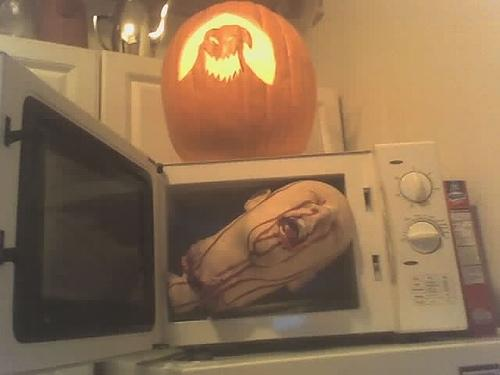pumpkin: (161, 1, 317, 163)
